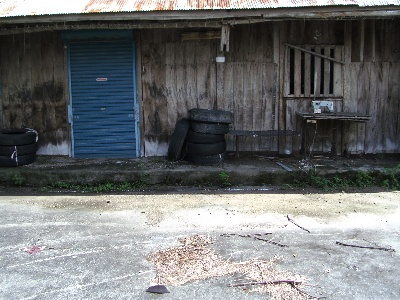tire: (166, 117, 189, 162), (188, 107, 235, 123), (1, 127, 38, 145), (190, 119, 228, 135), (1, 143, 39, 157), (1, 153, 39, 167), (186, 132, 225, 143), (188, 143, 227, 154), (188, 154, 227, 165)
